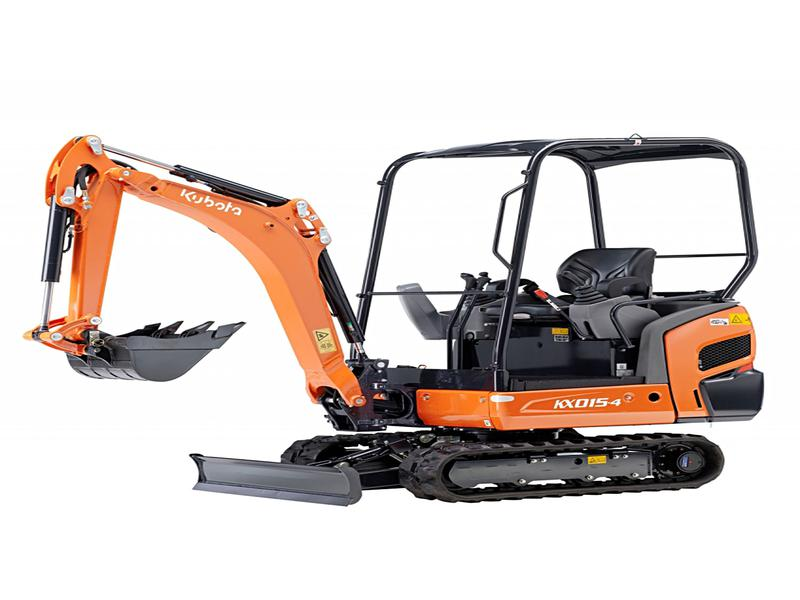shovel: (20, 116, 774, 529)
